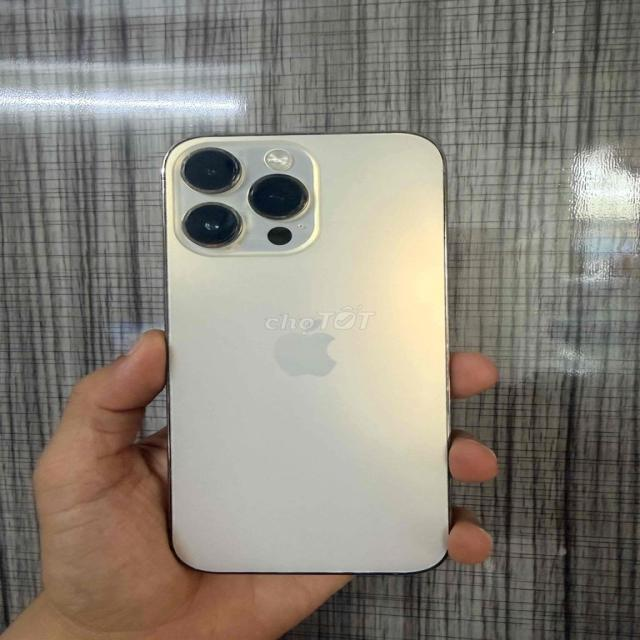gen_14: (147, 120, 475, 585)
